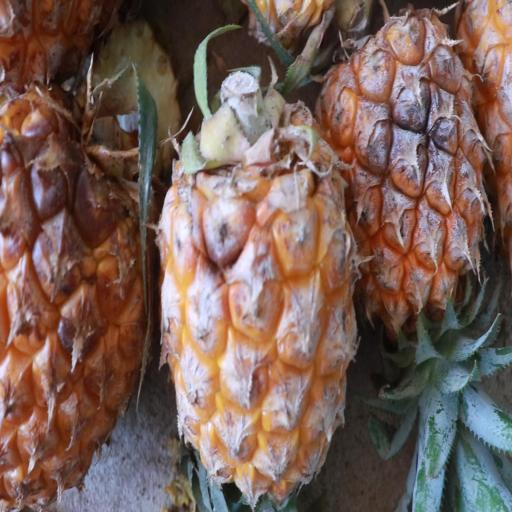Pineapple - v8 v1: (153, 78, 368, 512), (310, 5, 492, 390), (0, 76, 154, 512)
